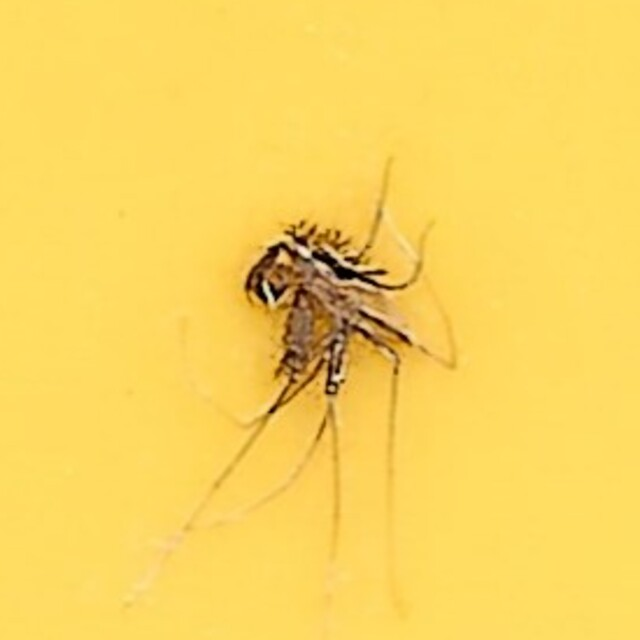Nematocera: (233, 212, 407, 428)
